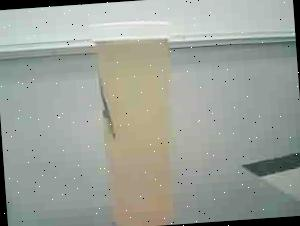Bottle A: (84, 14, 185, 226)
